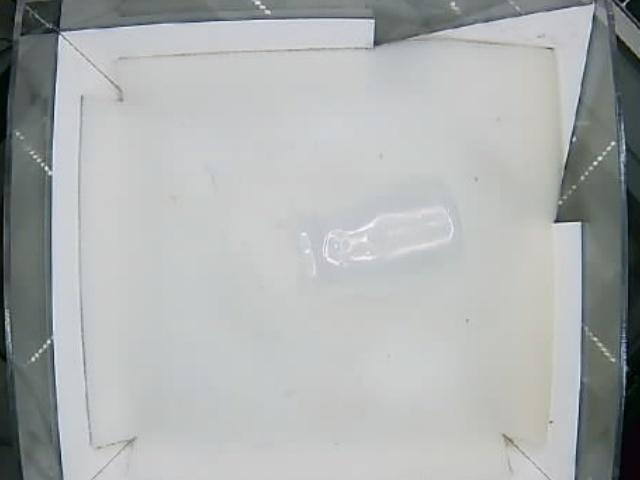Bottle: (293, 185, 461, 292)
